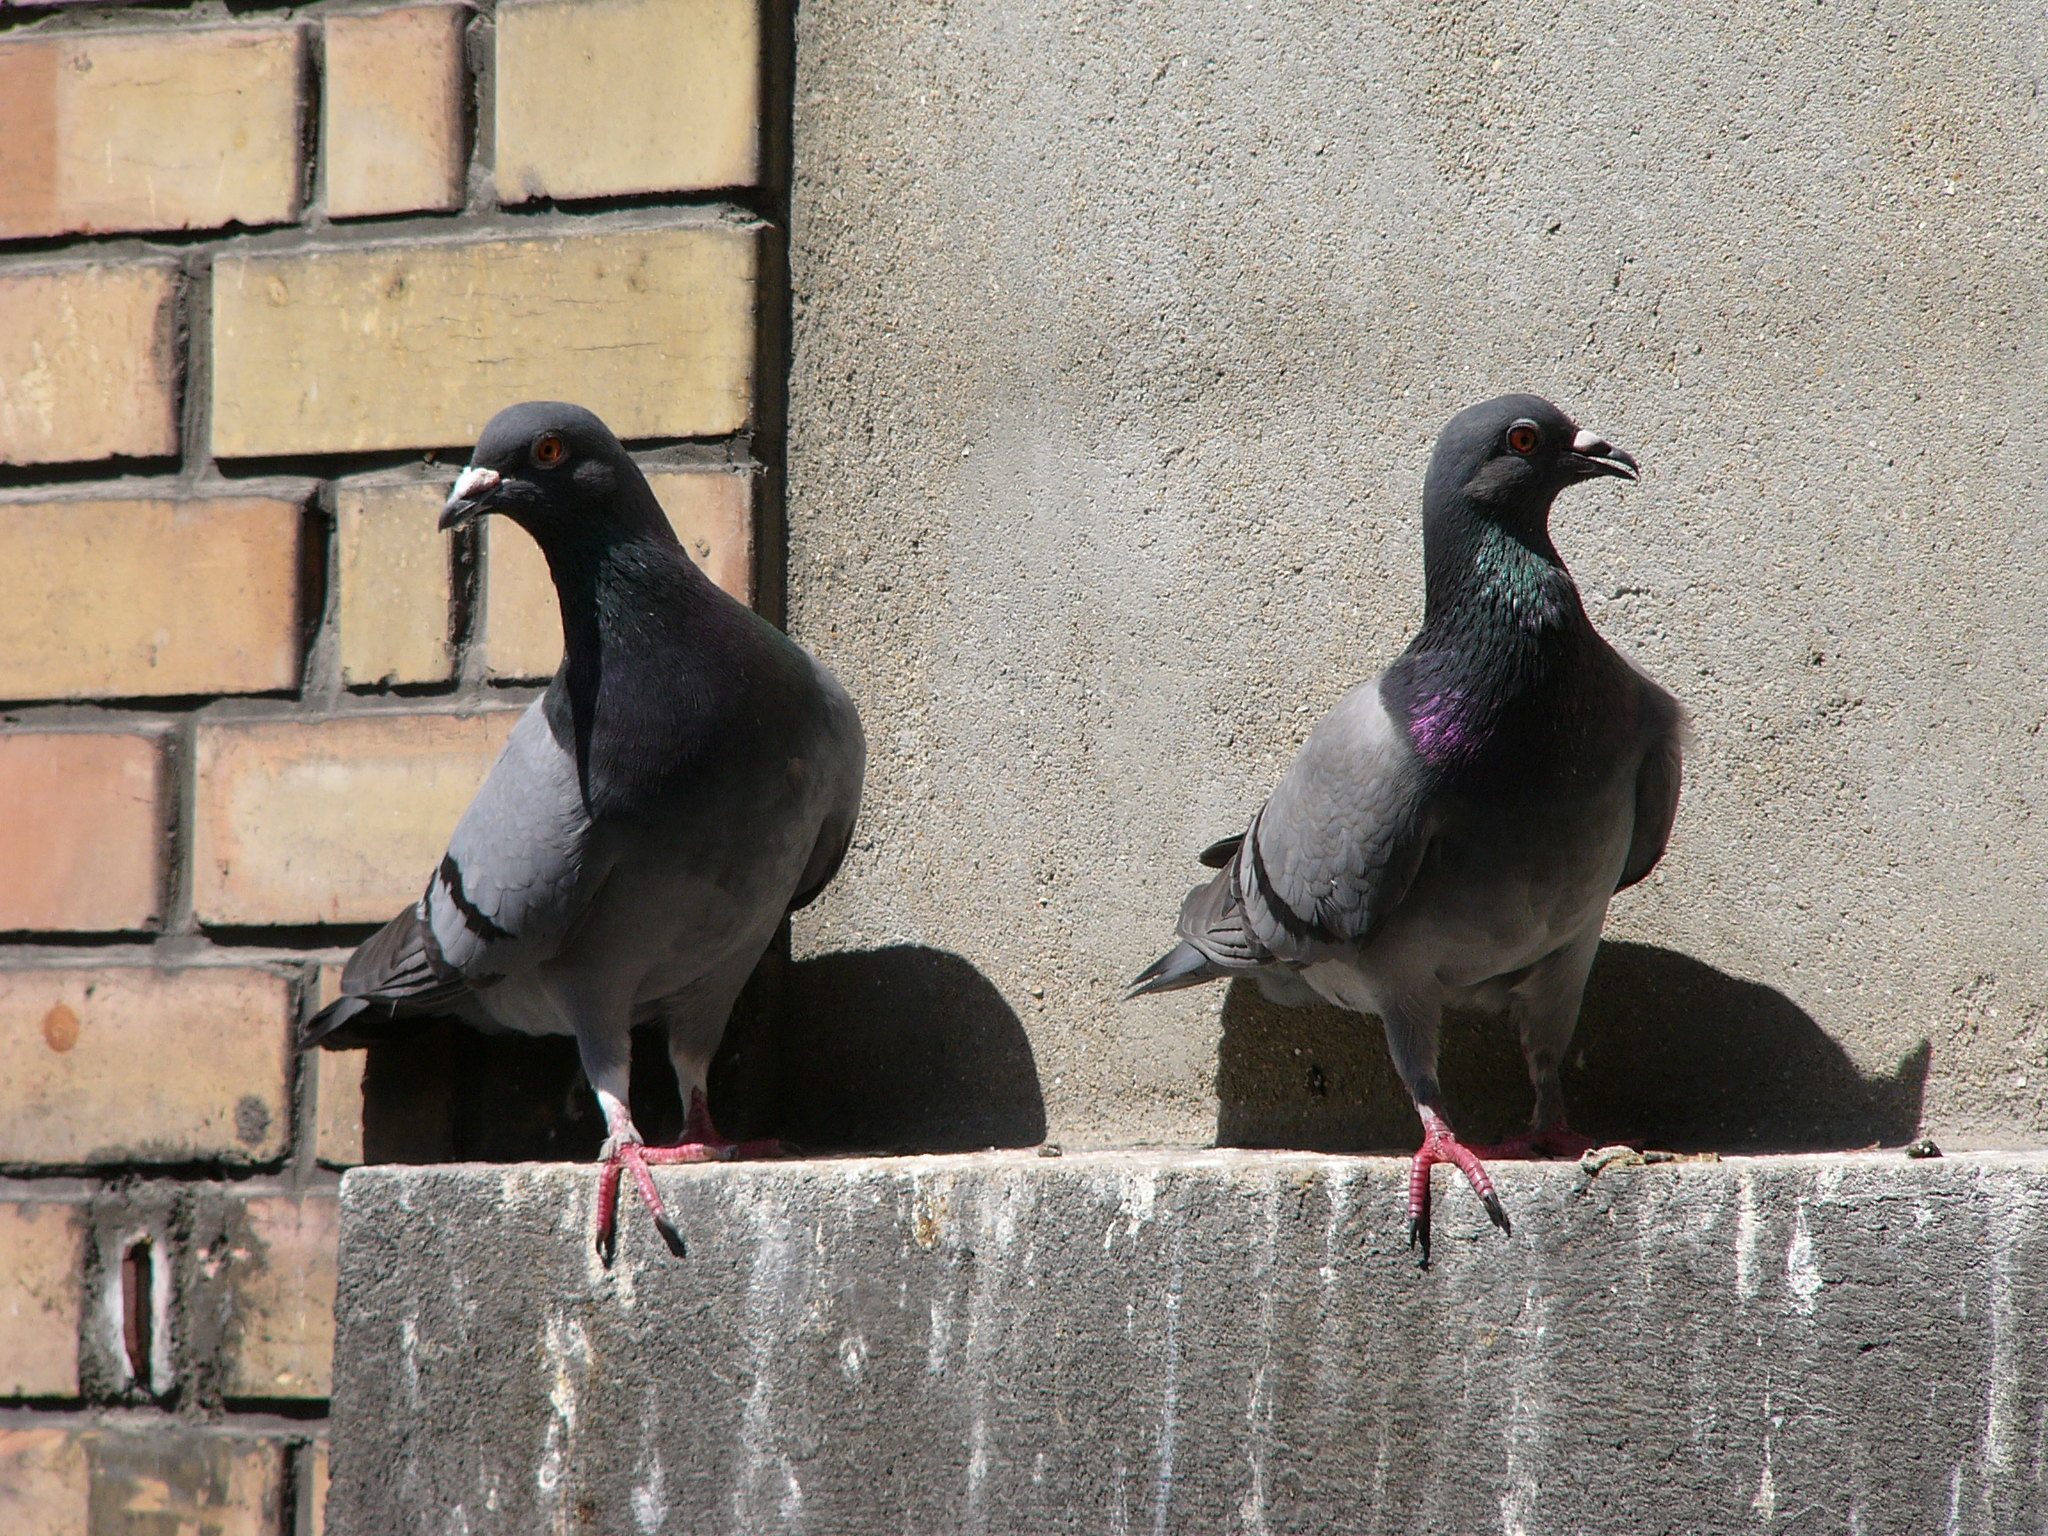pigeon: (1118, 386, 1784, 1275), (295, 386, 898, 1286)
